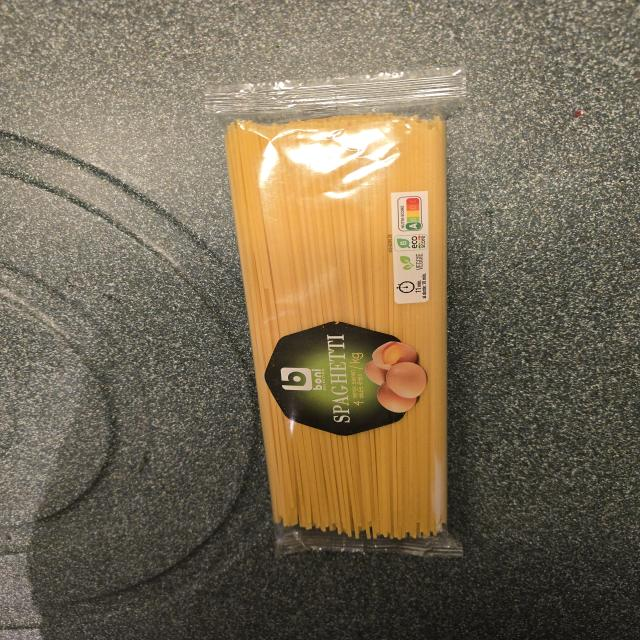Pasta: (227, 114, 462, 555)
